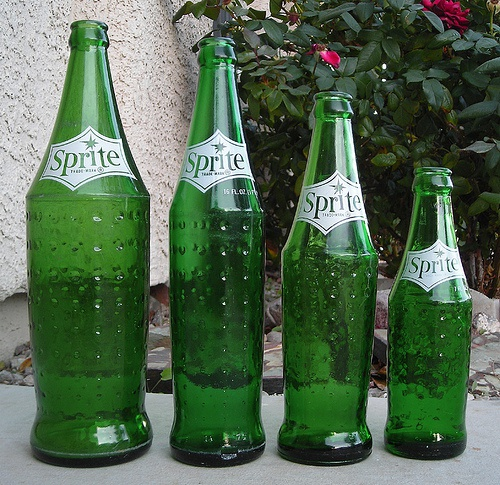emptybottle: (27, 22, 152, 467), (169, 37, 264, 467), (276, 92, 373, 466), (384, 167, 470, 460)
